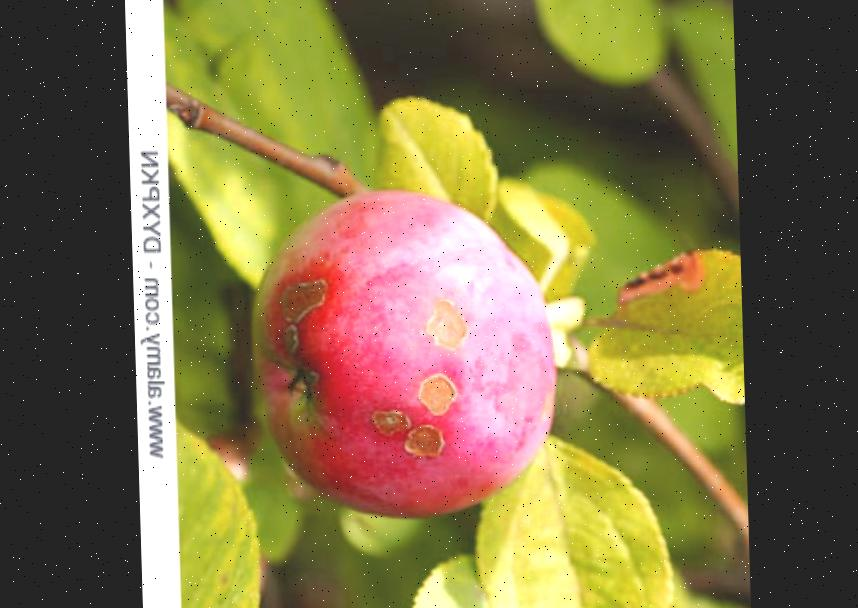SCAB: (241, 165, 590, 536)
